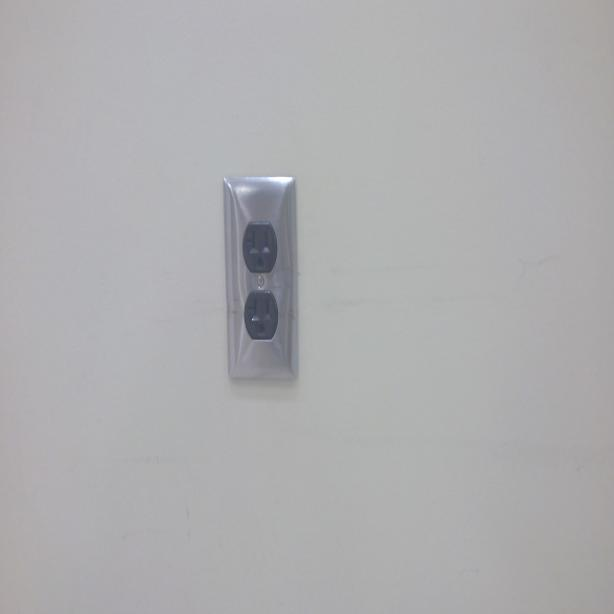typeb: (244, 226, 273, 274), (245, 292, 273, 336)
